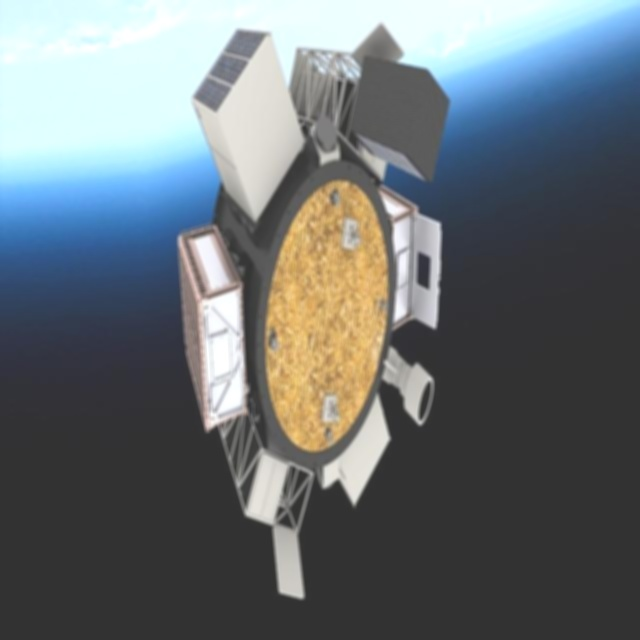medium_debris: (170, 17, 453, 613)
